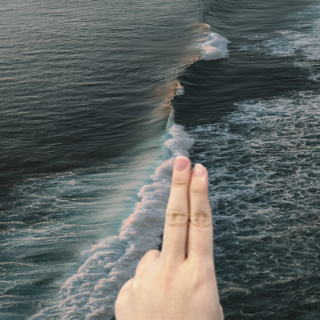DHAVE: (110, 149, 228, 320)
